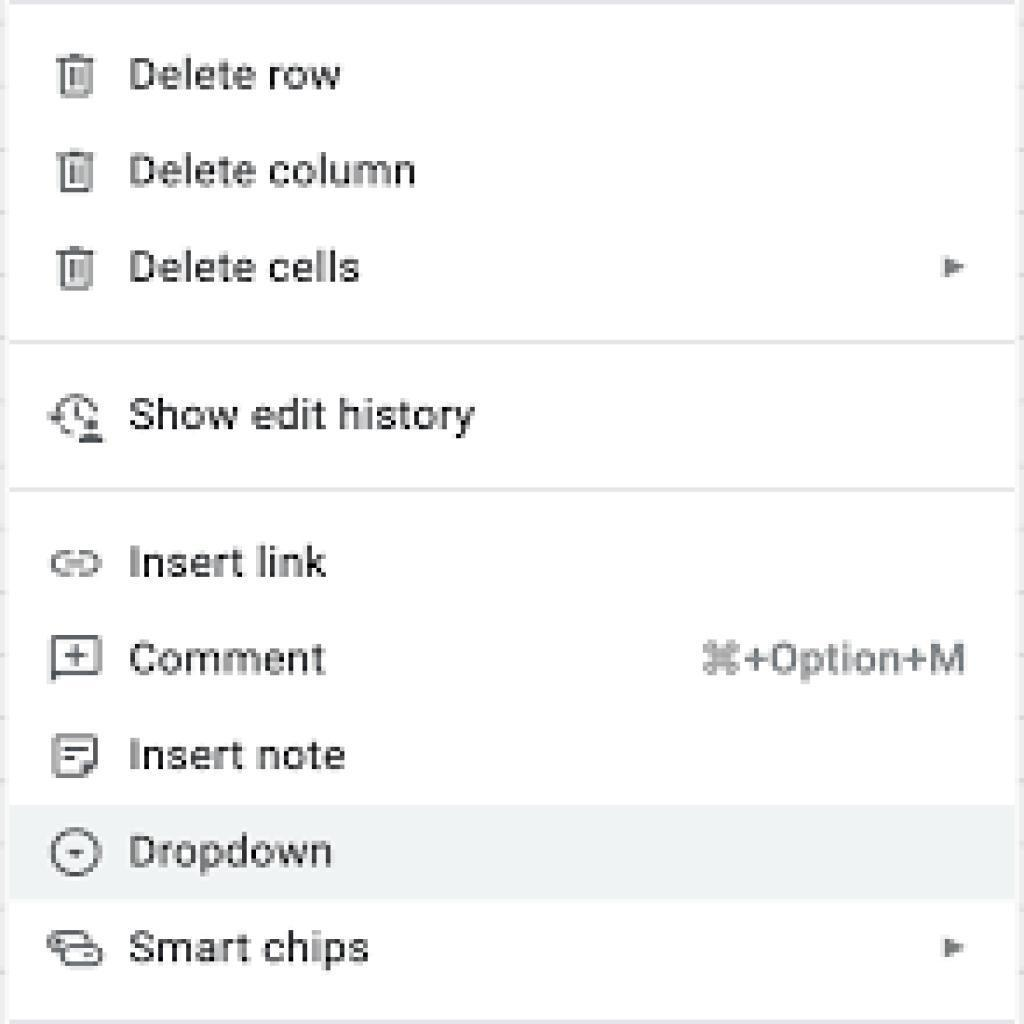icon: (45, 388, 108, 455), (46, 632, 115, 693), (48, 817, 108, 884), (44, 922, 111, 982), (42, 728, 114, 783), (50, 145, 105, 202), (53, 49, 104, 104), (53, 243, 103, 298), (48, 547, 110, 588)
